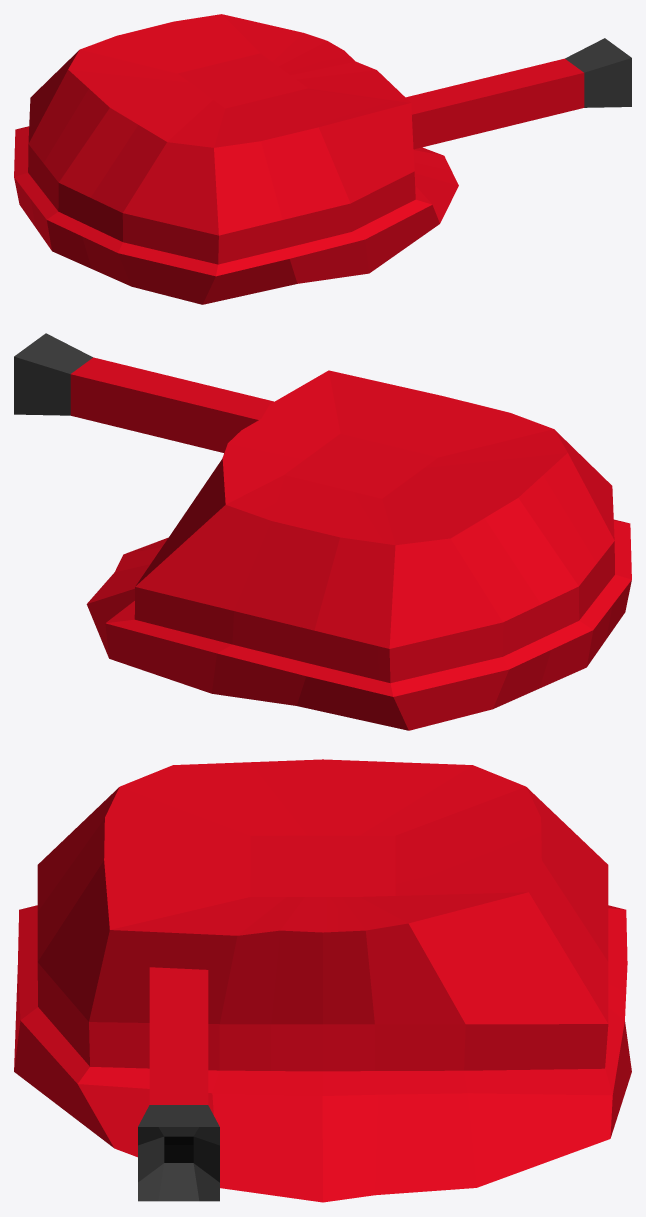
The model's file is enemy.fbx.
The picture shows the model from 3 angles, top to bottom: view 1: azimuth 30°, elevation 25°; view 2: azimuth 150°, elevation 25°; view 3: azimuth 270°, elevation 25°; orthographic projection. The views are drawn at different scales.
Parts seen in each view (by area): view 1: Cube.001; view 2: Cube.001; view 3: Cube.001.
Part boxes in pixels (left/top/right/bottom): Cube.001: left=14, top=14, right=631, bottom=304; Cube.001: left=14, top=333, right=631, bottom=730; Cube.001: left=14, top=759, right=631, bottom=1202.
Bounding box in the file's own units: 360 × 85.02 × 243.
